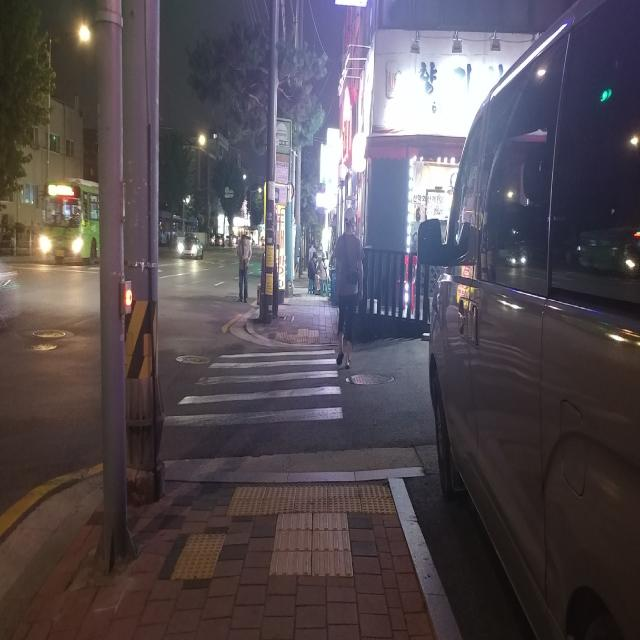횡단보도: (162, 349, 344, 426)
